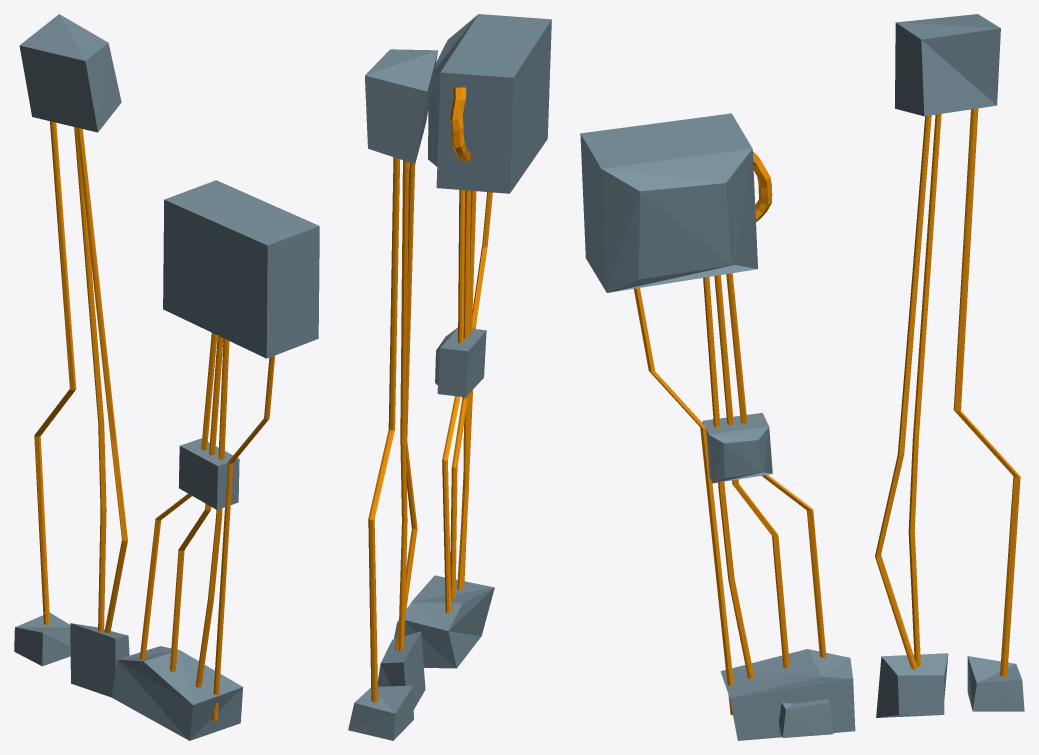
3 renders of one model, left to right at view 1: azimuth 30°, elevation 25°; view 2: azimuth 150°, elevation 25°; view 3: azimuth 270°, elevation 25°, orthographic. The views are drawn at different scales.
Visible parts, largest first — view 1: mesh_1656735787, mesh_378827461, mesh_255641215, group_1493390107, group_693125682, mesh_672334773, group_937049375, mesh_894806288, mesh_188038389, group_339144570, group_64151041, group_1637110852 (+1 smaller); view 2: mesh_1656735787, mesh_378827461, mesh_255641215, group_1493390107, group_937049375, mesh_894806288, mesh_188038389, group_414987723, group_693125682, group_1637110852, mesh_672334773, group_64151041 (+2 smaller); view 3: mesh_1656735787, mesh_378827461, mesh_255641215, group_1493390107, mesh_672334773, group_693125682, mesh_894806288, group_937049375, group_339144570, mesh_188038389, group_64151041, group_414987723 (+3 smaller).
Part boxes in pixels (left/top/right/bottom): mesh_1656735787: left=163, top=180, right=319, bottom=358; mesh_378827461: left=19, top=14, right=121, bottom=132; mesh_255641215: left=111, top=646, right=243, bottom=740; group_1493390107: left=34, top=121, right=76, bottom=624; group_693125682: left=76, top=127, right=127, bottom=633; mesh_672334773: left=70, top=623, right=129, bottom=697; group_937049375: left=74, top=127, right=106, bottom=632; mesh_894806288: left=178, top=438, right=239, bottom=509; mesh_188038389: left=14, top=613, right=70, bottom=666; group_339144570: left=212, top=355, right=274, bottom=721; group_64151041: left=195, top=338, right=229, bottom=687; group_1637110852: left=170, top=335, right=223, bottom=671; mesh_1656735787: left=428, top=14, right=551, bottom=193; mesh_378827461: left=365, top=49, right=438, bottom=163; mesh_255641215: left=404, top=575, right=494, bottom=668; group_1493390107: left=368, top=157, right=399, bottom=702; group_937049375: left=398, top=160, right=408, bottom=650; mesh_894806288: left=435, top=327, right=486, bottom=397; mesh_188038389: left=348, top=685, right=413, bottom=740; group_414987723: left=442, top=190, right=465, bottom=613; group_693125682: left=395, top=162, right=417, bottom=649; group_1637110852: left=450, top=190, right=470, bottom=598; mesh_672334773: left=378, top=631, right=425, bottom=709; group_64151041: left=457, top=190, right=476, bottom=590; mesh_1656735787: left=580, top=113, right=757, bottom=292; mesh_378827461: left=895, top=14, right=1000, bottom=116; mesh_255641215: left=720, top=649, right=855, bottom=740; group_1493390107: left=953, top=108, right=1020, bottom=676; mesh_672334773: left=876, top=653, right=948, bottom=717; group_693125682: left=875, top=115, right=931, bottom=669; mesh_894806288: left=702, top=413, right=772, bottom=483; group_937049375: left=908, top=114, right=941, bottom=666; group_339144570: left=634, top=288, right=733, bottom=715; mesh_188038389: left=967, top=656, right=1024, bottom=711; group_64151041: left=703, top=277, right=754, bottom=678; group_414987723: left=726, top=273, right=826, bottom=658.
Bounding box in the file's own units: 4.7 × 21.18 × 12.24.
